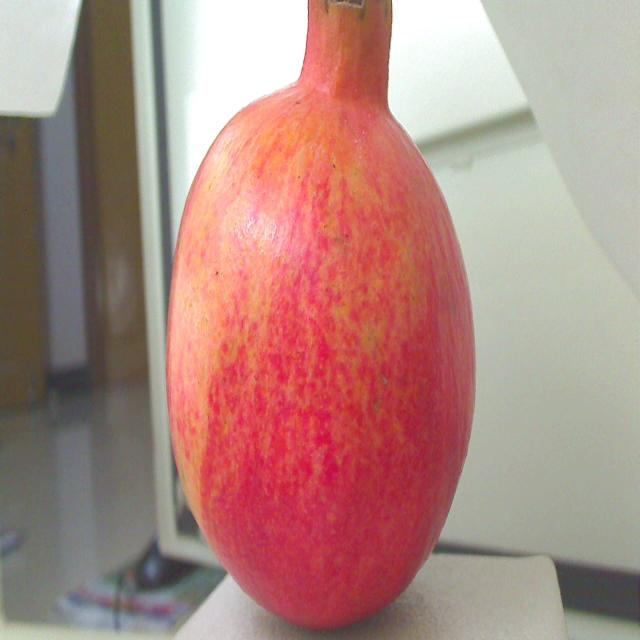pomegranate: (157, 0, 490, 640)
